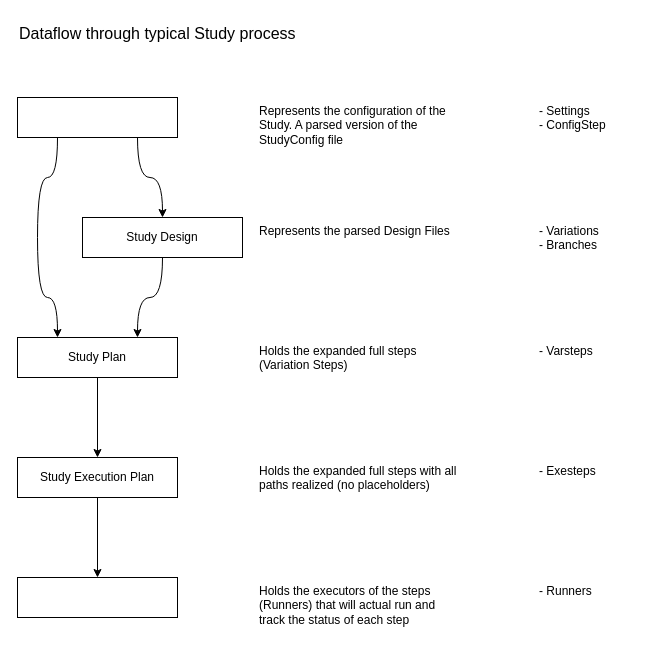
Image size: 665x664. Some labels were removed from this diagram. The shapes that lost their labels are listed below. From the top down, each one's centre as x and y in pixels, then its label:
point 97,117: Study Configuration
point 97,597: Study Orchestrator
